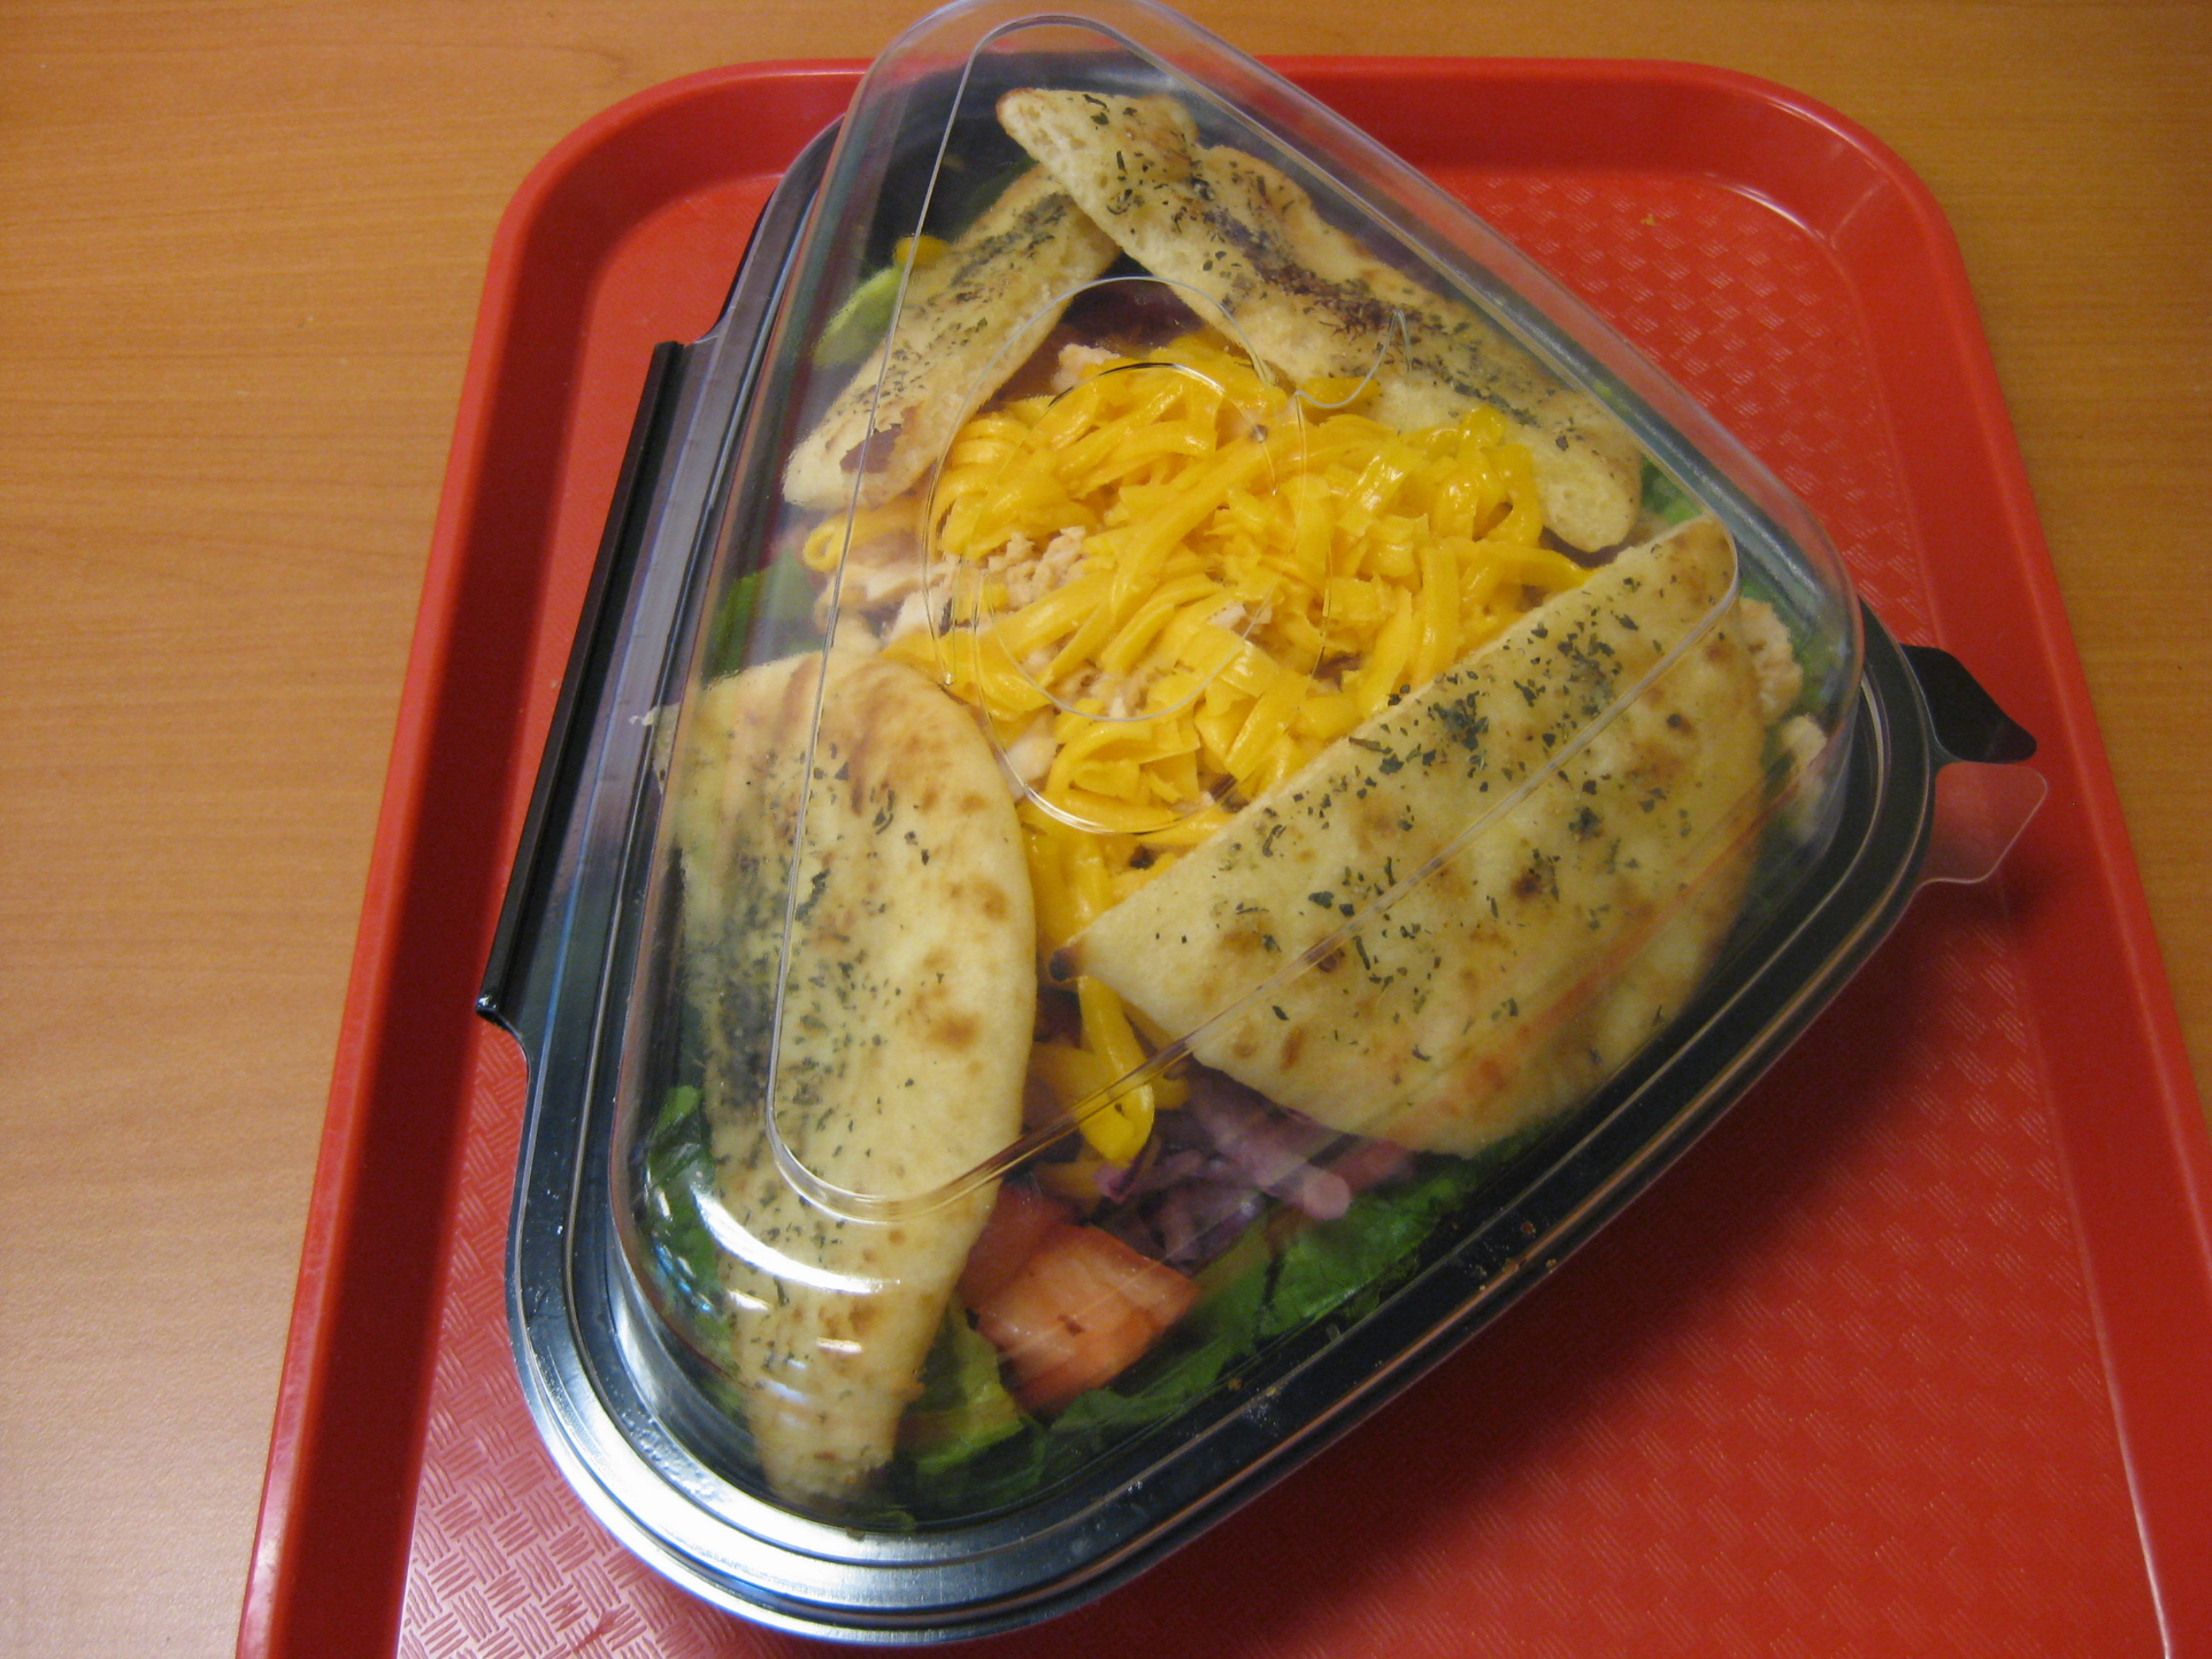salad: (658, 78, 1850, 1545)
